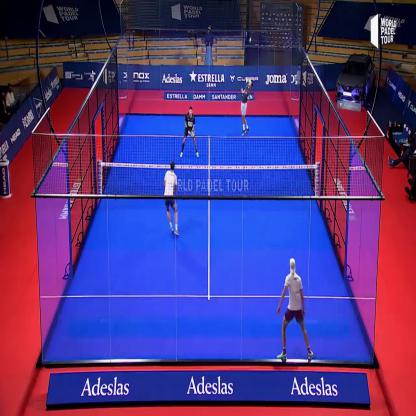ball: (246, 32, 254, 46)
